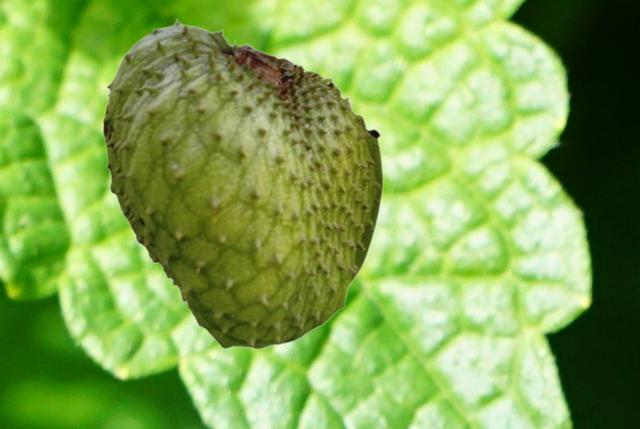guyabano: (102, 17, 383, 349)
